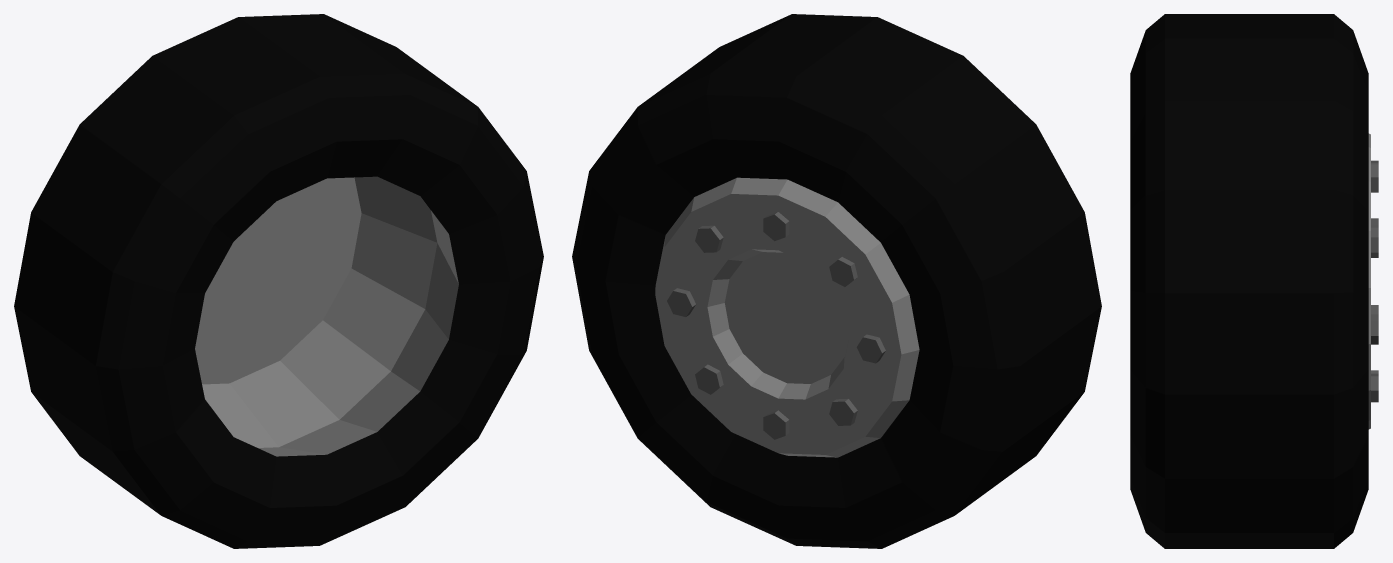
File: CarWheel.fbx
3 views of the same model, side by side, from view 1: azimuth 30°, elevation 25°; view 2: azimuth 150°, elevation 25°; view 3: azimuth 270°, elevation 25° (orthographic). The views are drawn at different scales.
Parts seen in each view (by area): view 1: Car_Wheel; view 2: Car_Wheel; view 3: Car_Wheel.
Part boxes in pixels (left/top/right/bottom): Car_Wheel: left=14, top=14, right=543, bottom=548; Car_Wheel: left=572, top=14, right=1101, bottom=548; Car_Wheel: left=1130, top=14, right=1378, bottom=548.
Bounding box in the file's own units: 82.81 × 82.81 × 38.44.
